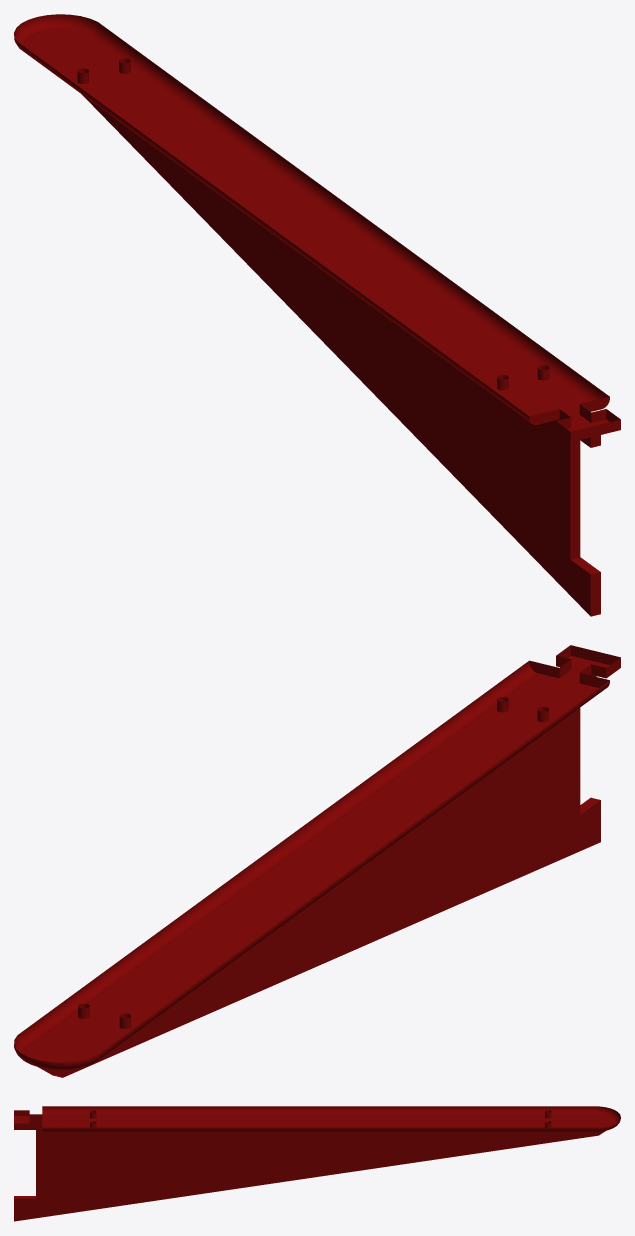
File: original-44.obj
3 views of the same model, one above another, from view 1: azimuth 30°, elevation 25°; view 2: azimuth 150°, elevation 25°; view 3: azimuth 270°, elevation 25° (orthographic). The views are drawn at different scales.
Parts seen in each view (by area): view 1: Group34/mesh46/mesh46-geometry#mesh46-geometry; view 2: Group34/mesh46/mesh46-geometry#mesh46-geometry; view 3: Group34/mesh46/mesh46-geometry#mesh46-geometry.
Part boxes in pixels (x1=…): Group34/mesh46/mesh46-geometry#mesh46-geometry: x1=14, y1=14, x2=620, y2=616; Group34/mesh46/mesh46-geometry#mesh46-geometry: x1=14, y1=645, x2=620, y2=1077; Group34/mesh46/mesh46-geometry#mesh46-geometry: x1=14, y1=1106, x2=620, y2=1221.
Size of the model in its own units: 0.0171 by 0.0384 by 0.2047.
